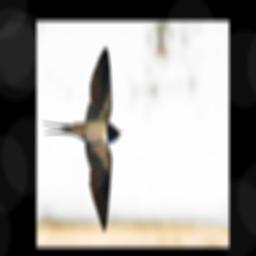Swallow: (42, 42, 122, 234)
